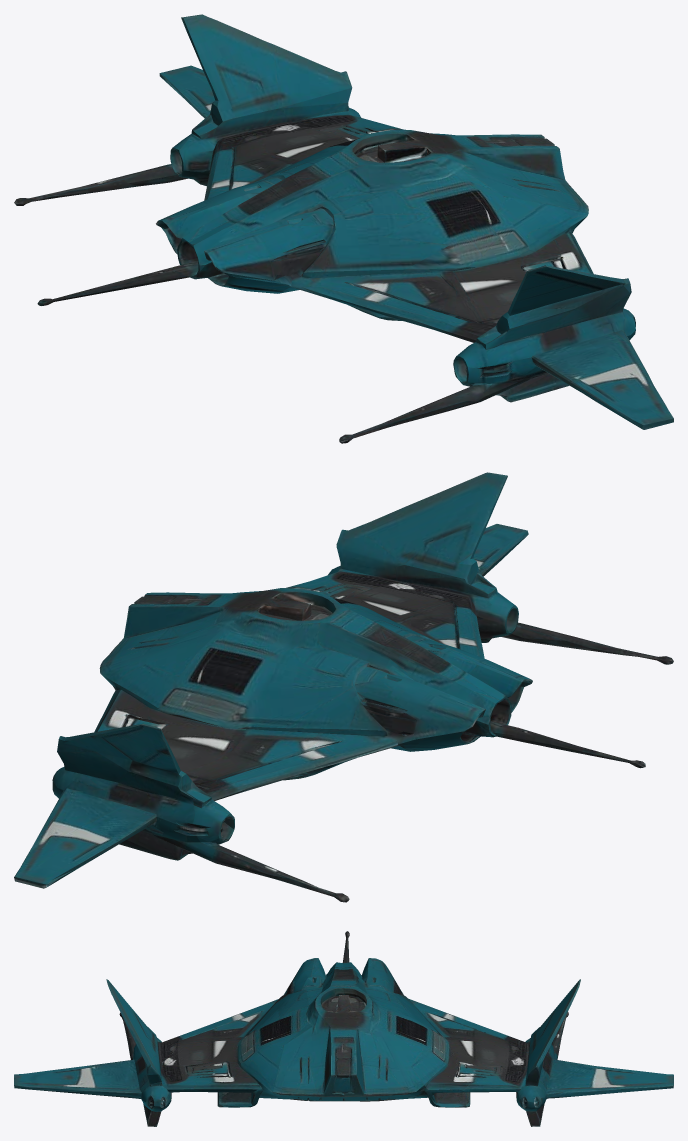
Rendered from enemy-neptune-fighter.glb.
3 renders of one model, top to bottom at view 1: azimuth 30°, elevation 25°; view 2: azimuth 150°, elevation 25°; view 3: azimuth 270°, elevation 25°, orthographic. The views are drawn at different scales.
Bounding box in the file's own units: 1.16 × 0.3282 × 1.9.
1 material, 1 textured.
